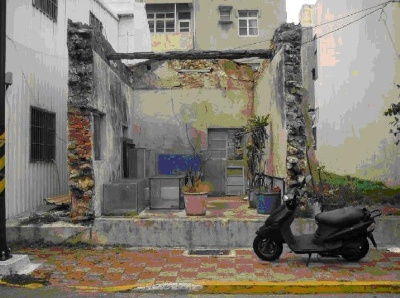aquarium: (102, 177, 147, 217), (147, 173, 186, 211), (127, 147, 150, 176)
